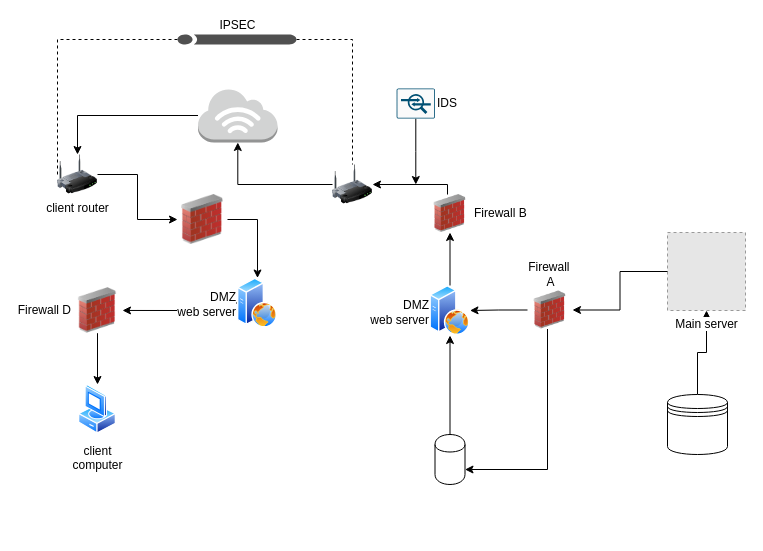
The diagram is 763 pixels wide and 551 high, and some of its shapes have lost their labels. Grey dashed boxes stand in for pictures. The centre of each missing label's shape, as x and y in pixels:
Firewall C: point (202, 219)
hashed database collection: point (449, 459)
Internet: point (237, 115)
Main Database: point (697, 424)
main office router: point (352, 184)
